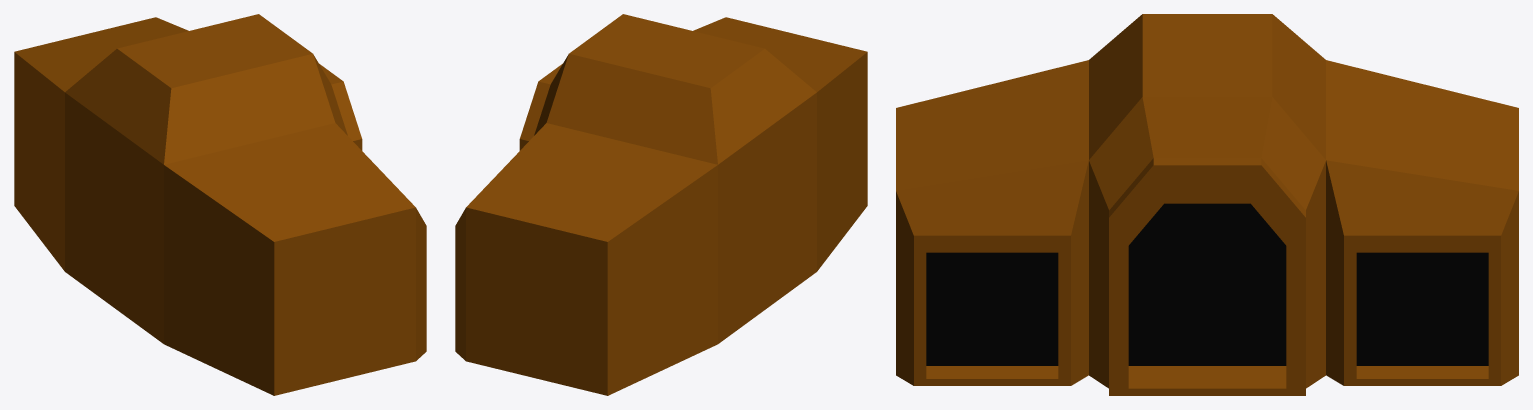
Rendered from enemygiji 1.fbx.
3 renders of one model, left to right at view 1: azimuth 30°, elevation 25°; view 2: azimuth 150°, elevation 25°; view 3: azimuth 270°, elevation 25°, orthographic. The views are drawn at different scales.
Parts seen in each view (by area): view 1: Cube; view 2: Cube; view 3: Cube.
Boxes of the visible parts, <box> form: Cube: <box>14,14,426,395</box>; Cube: <box>455,14,867,395</box>; Cube: <box>896,14,1518,395</box>.
Bounding box in the file's own units: 241 × 259 × 525.
